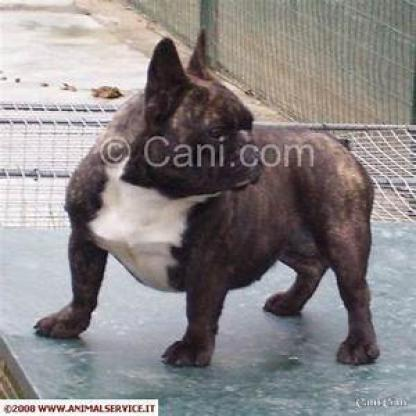dog: (32, 28, 384, 370)
